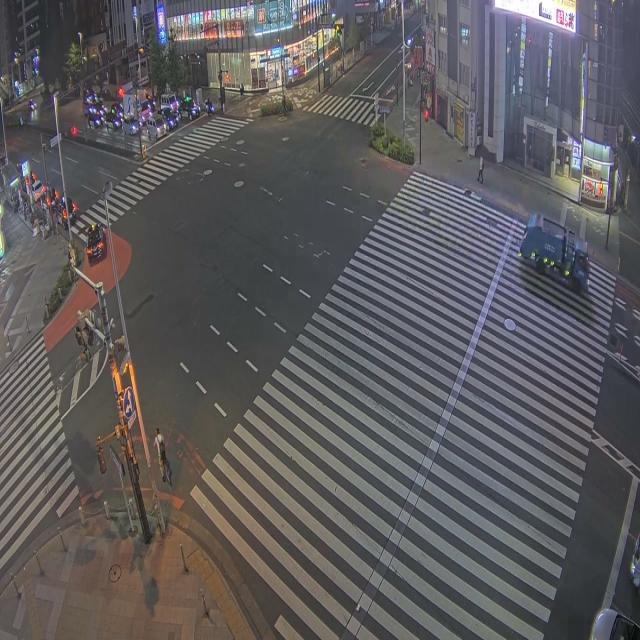car: (590, 609, 639, 639), (86, 224, 105, 261), (178, 96, 199, 119), (158, 107, 178, 129), (122, 114, 140, 135), (88, 100, 107, 118), (105, 112, 122, 130), (55, 201, 67, 226), (33, 180, 46, 202), (139, 101, 153, 121), (88, 113, 103, 128), (111, 102, 123, 118), (83, 90, 95, 105), (146, 93, 156, 110), (28, 99, 36, 111)
motorcycle: (205, 99, 214, 114)
van: (146, 114, 166, 139), (160, 94, 178, 111)
